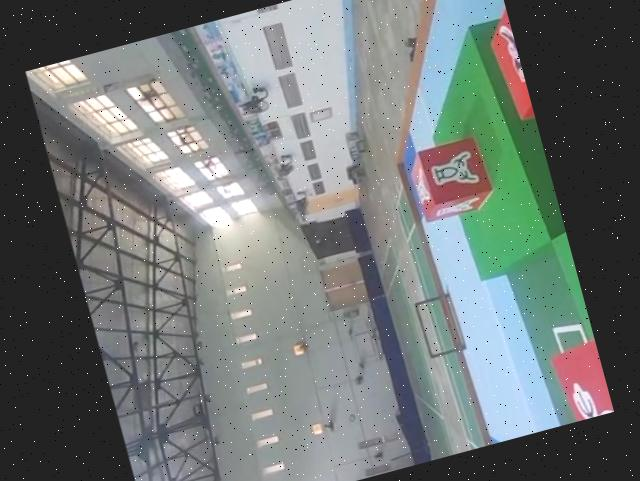R1: (467, 0, 537, 129)
R2 Real: (403, 133, 497, 227), (545, 331, 614, 424)
